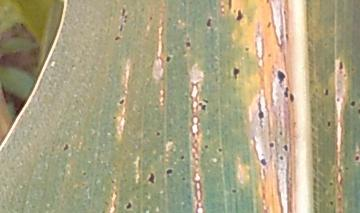tarspot: (256, 102, 265, 120), (277, 67, 285, 83), (235, 7, 243, 22), (232, 67, 240, 80), (148, 172, 156, 184), (282, 86, 289, 98), (198, 101, 206, 111), (288, 92, 295, 103), (112, 33, 120, 42), (226, 1, 233, 11), (323, 87, 330, 97), (118, 97, 125, 106), (260, 157, 267, 166), (230, 185, 237, 194), (325, 119, 332, 128), (277, 152, 284, 161), (120, 6, 126, 16), (206, 17, 212, 27), (338, 59, 343, 71), (282, 142, 288, 152), (184, 41, 191, 49), (268, 141, 275, 149), (242, 45, 250, 52), (327, 199, 335, 206), (336, 166, 343, 174), (63, 142, 69, 151), (350, 99, 356, 108), (327, 179, 333, 188), (216, 146, 223, 153), (180, 175, 187, 182), (281, 9, 288, 16), (266, 51, 273, 58), (165, 55, 171, 63), (166, 167, 172, 175), (179, 153, 185, 161), (277, 129, 283, 137), (266, 21, 272, 29), (122, 17, 128, 24), (126, 202, 132, 209), (155, 130, 161, 137), (111, 114, 117, 121), (336, 195, 342, 202), (355, 154, 360, 162), (335, 95, 340, 103), (118, 25, 124, 31), (203, 143, 209, 149), (82, 170, 87, 176), (149, 14, 153, 21), (358, 108, 360, 116), (266, 1, 270, 4)
